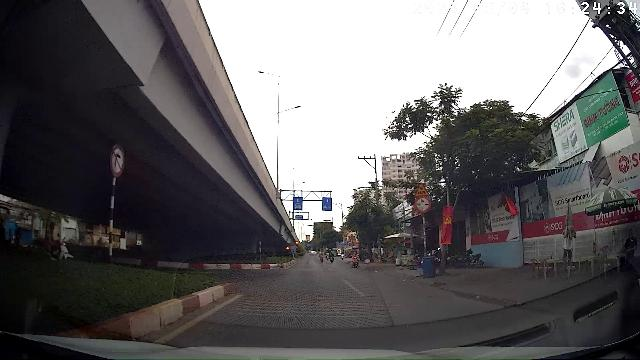123b-cam-re-phai: (109, 143, 126, 178)
